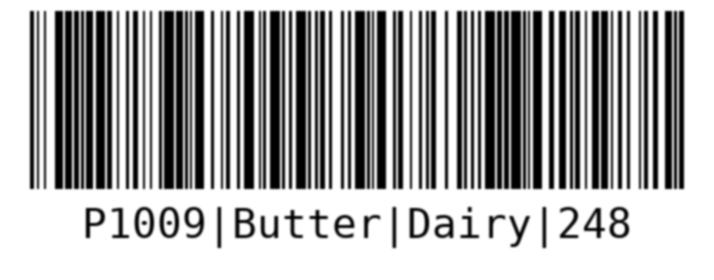milk: (18, 5, 695, 268)
